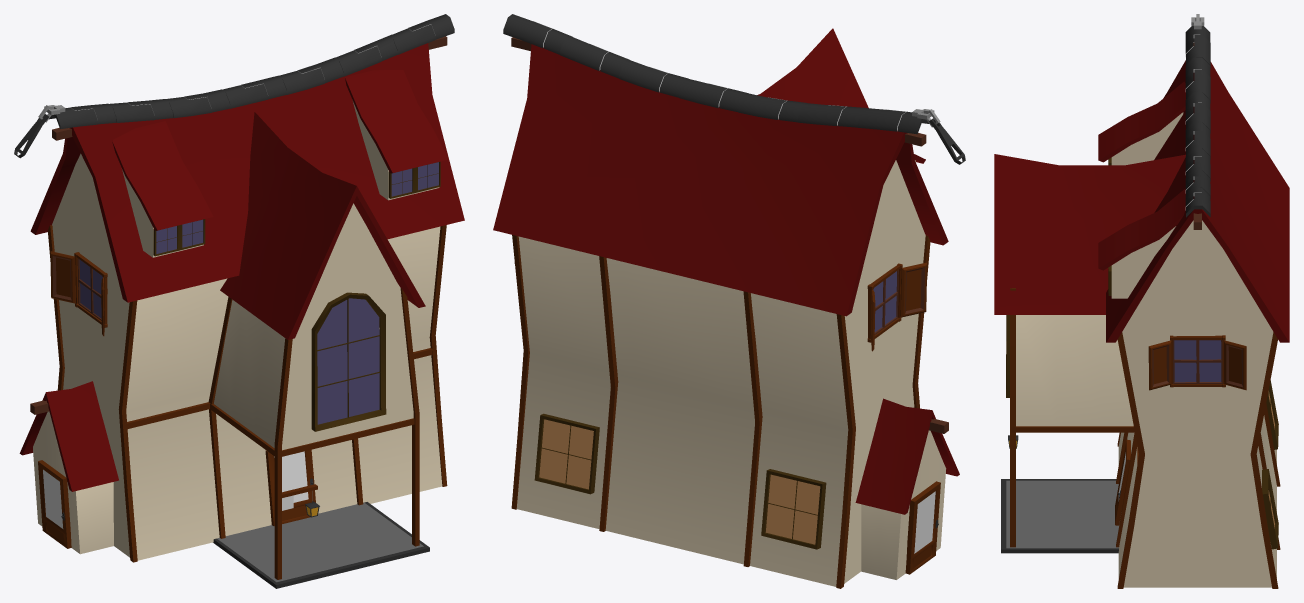
File: HouseVariation.8.fbx
The picture shows the model from 3 angles, left to right: view 1: azimuth 30°, elevation 25°; view 2: azimuth 150°, elevation 25°; view 3: azimuth 270°, elevation 25°; orthographic projection. The views are drawn at different scales.
Visible parts, largest first — view 1: Cube.044, Cube.045, Cube.046, Cube.048, Cube.113, Cube.244, Janela.047, Cube.051, Cube.053, Cube.062, Cube.104, Cube.016 (+11 smaller); view 2: Cube.044, Cube.045, Cube.244, Cube.062, Cube.104, Cube.016, Cube.077, Janela.048, Cube.048, Janela.049, JanelasPequenas.022, PortaPresset.019; view 3: Cube.044, Cube.048, Cube.045, Cube.046, Cube.113, Cube.244, JanelasPequenas.022, Cube.104, Cube.051, Cube.053, Cube.052, Cube.072 (+6 smaller).
Boxes of the visible parts, x1=… form: Cube.044: x1=52, y1=153, x2=442, y2=560; Cube.045: x1=30, y1=43, x2=464, y2=302; Cube.046: x1=211, y1=203, x2=413, y2=450; Cube.048: x1=220, y1=112, x2=425, y2=339; Cube.113: x1=213, y1=502, x2=429, y2=588; Cube.244: x1=14, y1=14, x2=454, y2=158; Janela.047: x1=311, y1=292, x2=386, y2=431; Cube.051: x1=112, y1=121, x2=213, y2=230; Cube.053: x1=345, y1=70, x2=448, y2=173; Cube.062: x1=19, y1=381, x2=118, y2=491; Cube.104: x1=47, y1=225, x2=447, y2=562; Cube.016: x1=33, y1=411, x2=113, y2=554; Cube.044: x1=516, y1=160, x2=925, y2=586; Cube.045: x1=493, y1=44, x2=948, y2=316; Cube.244: x1=503, y1=14, x2=965, y2=164; Cube.062: x1=855, y1=398, x2=959, y2=514; Cube.104: x1=511, y1=235, x2=930, y2=588; Cube.016: x1=861, y1=430, x2=946, y2=579; Cube.077: x1=599, y1=256, x2=762, y2=566; Janela.048: x1=761, y1=469, x2=826, y2=549; Cube.048: x1=757, y1=28, x2=868, y2=108; Janela.049: x1=534, y1=413, x2=599, y2=494; JanelasPequenas.022: x1=514, y1=262, x2=927, y2=351; PortaPresset.019: x1=905, y1=481, x2=940, y2=574; Cube.044: x1=1118, y1=220, x2=1276, y2=587; Cube.048: x1=994, y1=154, x2=1185, y2=314; Cube.045: x1=1106, y1=60, x2=1289, y2=342; Cube.046: x1=1016, y1=315, x2=1133, y2=426; Cube.113: x1=1001, y1=479, x2=1118, y2=553; Cube.244: x1=1185, y1=14, x2=1210, y2=217; JanelasPequenas.022: x1=1148, y1=335, x2=1246, y2=390; Cube.104: x1=1117, y1=332, x2=1278, y2=588; Cube.051: x1=1098, y1=81, x2=1185, y2=162; Cube.053: x1=1098, y1=188, x2=1185, y2=270; Cube.052: x1=1111, y1=226, x2=1175, y2=298; Cube.072: x1=1010, y1=288, x2=1015, y2=547.
Bounding box in the file's own units: 1602 × 1548 × 1006.
